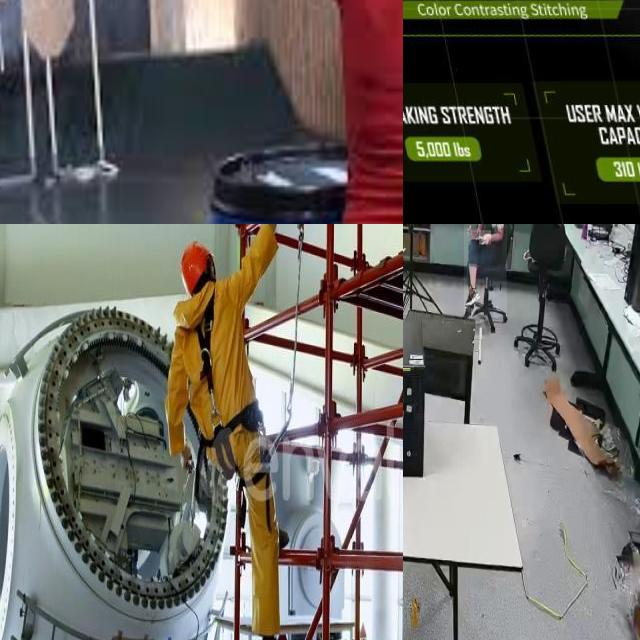Harness: (195, 295, 262, 471)
hand_noglove: (479, 230, 491, 246), (471, 226, 481, 239)
person: (464, 224, 507, 325)
shoes: (464, 279, 481, 309)
